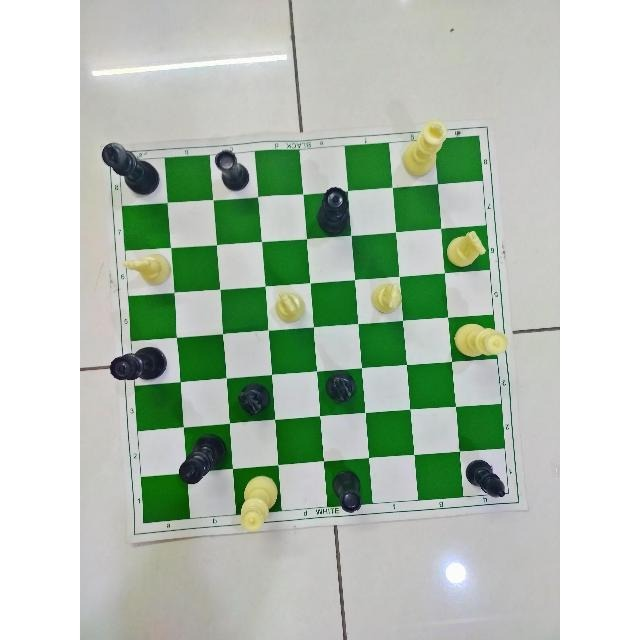black-bishop: (460, 458, 510, 506)
black-king: (94, 132, 164, 197), (177, 426, 229, 494)
black-knight: (235, 376, 275, 426), (321, 371, 364, 413)
black-queen: (305, 179, 355, 238), (106, 342, 172, 385)
black-rook: (325, 465, 367, 521), (210, 146, 253, 192)
white-king: (399, 114, 453, 181)
white-knight: (441, 222, 489, 276), (118, 250, 177, 289), (269, 285, 314, 327), (366, 277, 405, 322)
white-queen: (230, 462, 285, 538), (447, 316, 513, 365)
